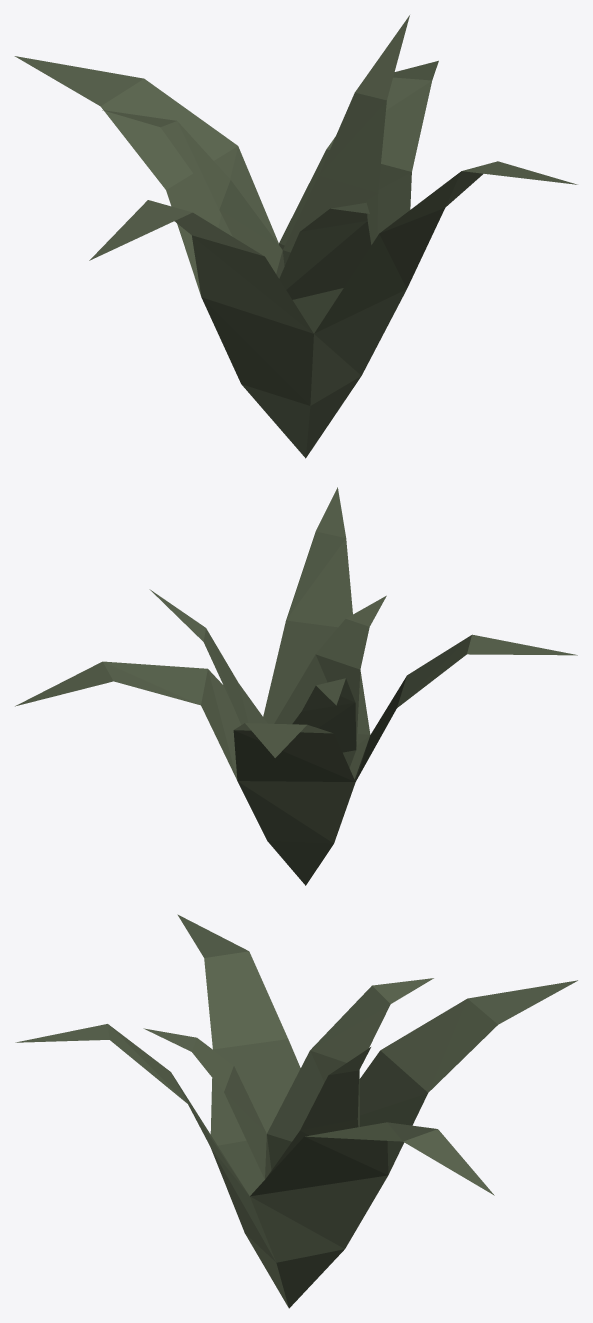
Rendered from OW_LOB_BUSH_V1.OBJ.
3 views of the same model, one above another, from view 1: azimuth 30°, elevation 25°; view 2: azimuth 150°, elevation 25°; view 3: azimuth 270°, elevation 25° (orthographic). The views are drawn at different scales.
Visible parts, largest first — view 1: OW_LOB_BUSH_V1; view 2: OW_LOB_BUSH_V1; view 3: OW_LOB_BUSH_V1.
Part boxes in pixels (bbox=[...]): OW_LOB_BUSH_V1: bbox=[14, 15, 577, 458]; OW_LOB_BUSH_V1: bbox=[15, 487, 577, 885]; OW_LOB_BUSH_V1: bbox=[15, 914, 577, 1308].
Bounding box in the file's own units: 4.36 × 2.92 × 4.57.
